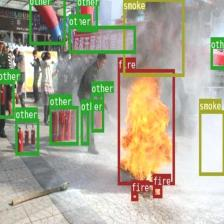fire: (118, 68, 174, 185), (152, 185, 162, 198), (131, 192, 138, 200)
smoke: (123, 0, 184, 76), (199, 109, 224, 175)
